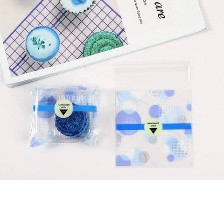snack: (107, 55, 199, 174), (20, 79, 107, 153)
